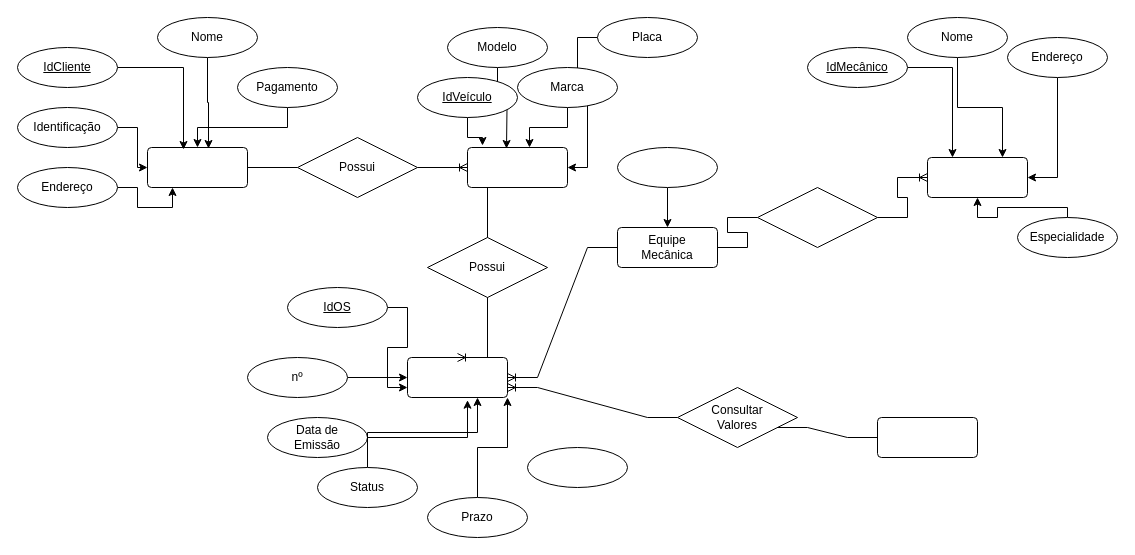
Image size: 1135x555. Some labels were removed from this diagram. The shapes that lost their labels are listed below. From the top down, each one's centre as x and y in pixels, then its label:
At point (197, 167): "Cliente".
At point (517, 167): "Veículo".
At point (667, 167): "IdEquipe".
At point (977, 177): "Mecânico".
At point (817, 217): "Trabalha".
At point (457, 377): "Ordem de Serviço".
At point (927, 437): "Tabela de Valores".
At point (577, 467): "Valor".
